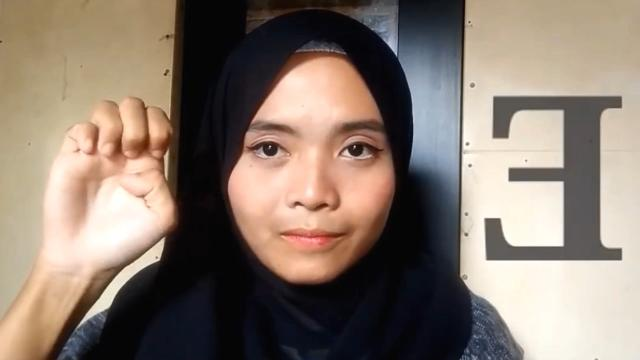E: (36, 95, 180, 273)
